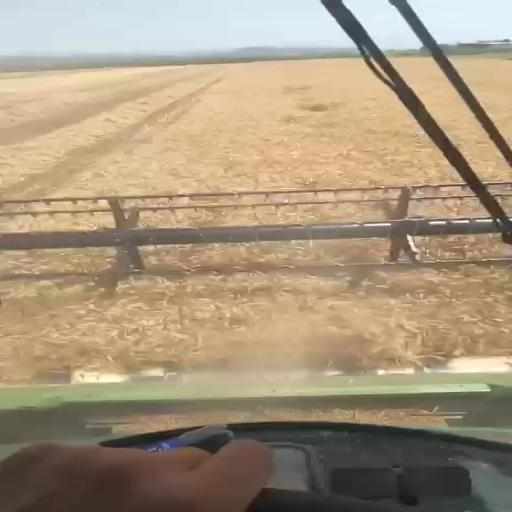bugday: (0, 55, 511, 390)
